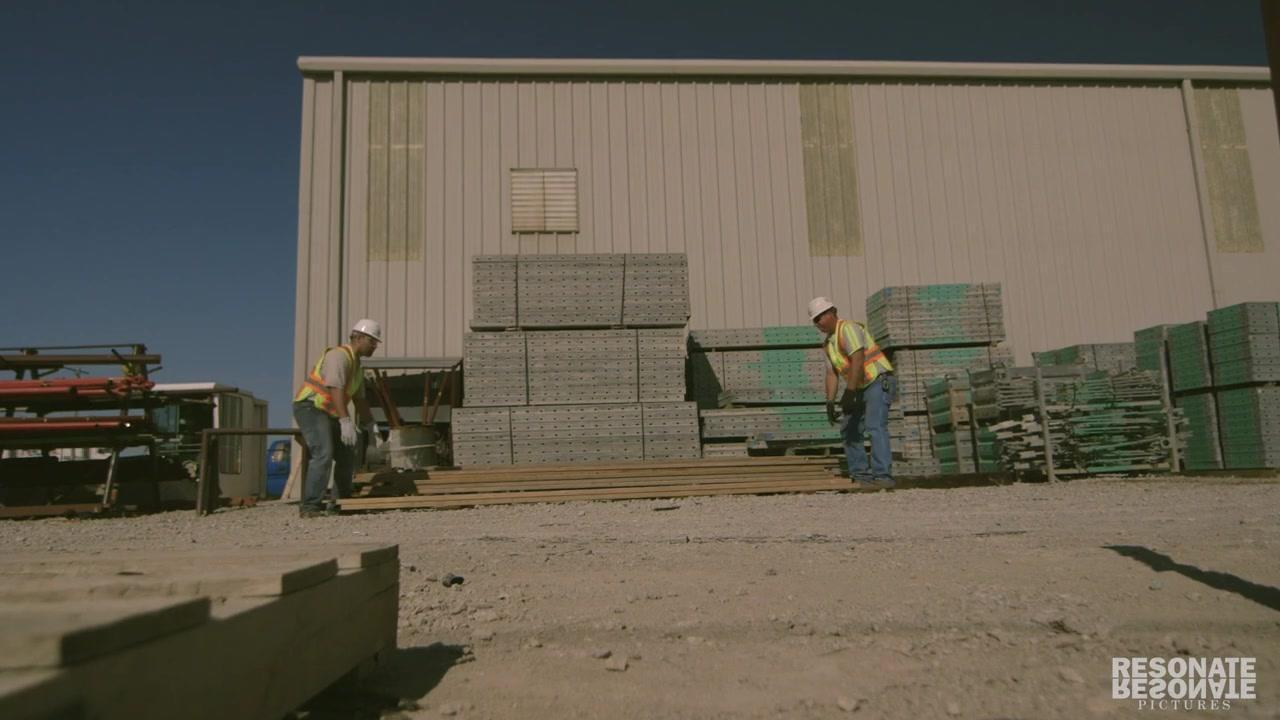vest: (296, 341, 356, 423), (827, 321, 892, 393)
